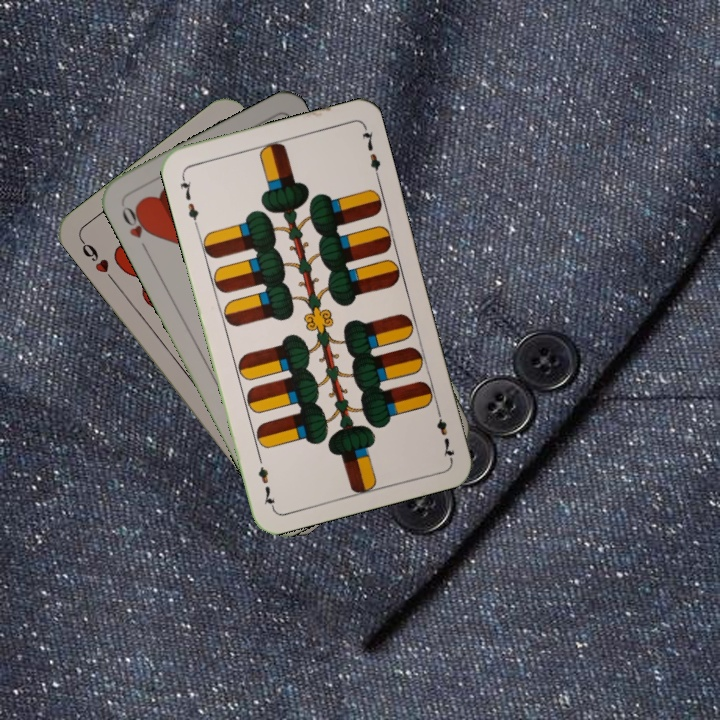E7: (432, 403, 458, 461), (176, 171, 201, 229)
H9: (76, 235, 118, 285)
HO: (117, 201, 154, 256)
